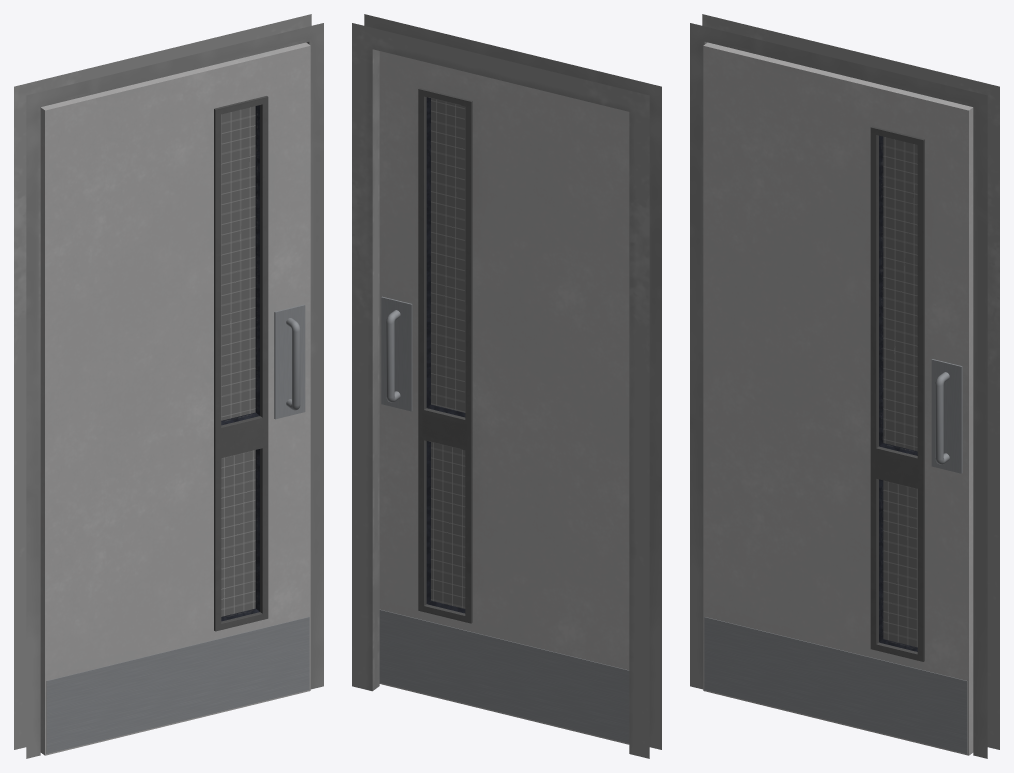
Rendered from DoorA.fbx.
3 views of the same model, side by side, from view 1: azimuth 30°, elevation 25°; view 2: azimuth 150°, elevation 25°; view 3: azimuth 330°, elevation 25° (orthographic).
Visible parts, largest first — view 1: Door, Frame; view 2: Door, Frame; view 3: Door, Frame.
Boxes of the visible parts, x1,y1,x2,y2 form: Door: (40, 42, 310, 755); Frame: (14, 14, 323, 758); Door: (379, 51, 629, 744); Frame: (352, 14, 661, 758); Door: (703, 42, 973, 755); Frame: (690, 14, 999, 758).
Size of the model in its own units: 102 by 217 by 15.5.
